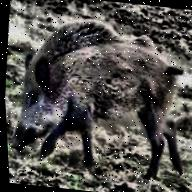boar: (0, 4, 192, 187)
